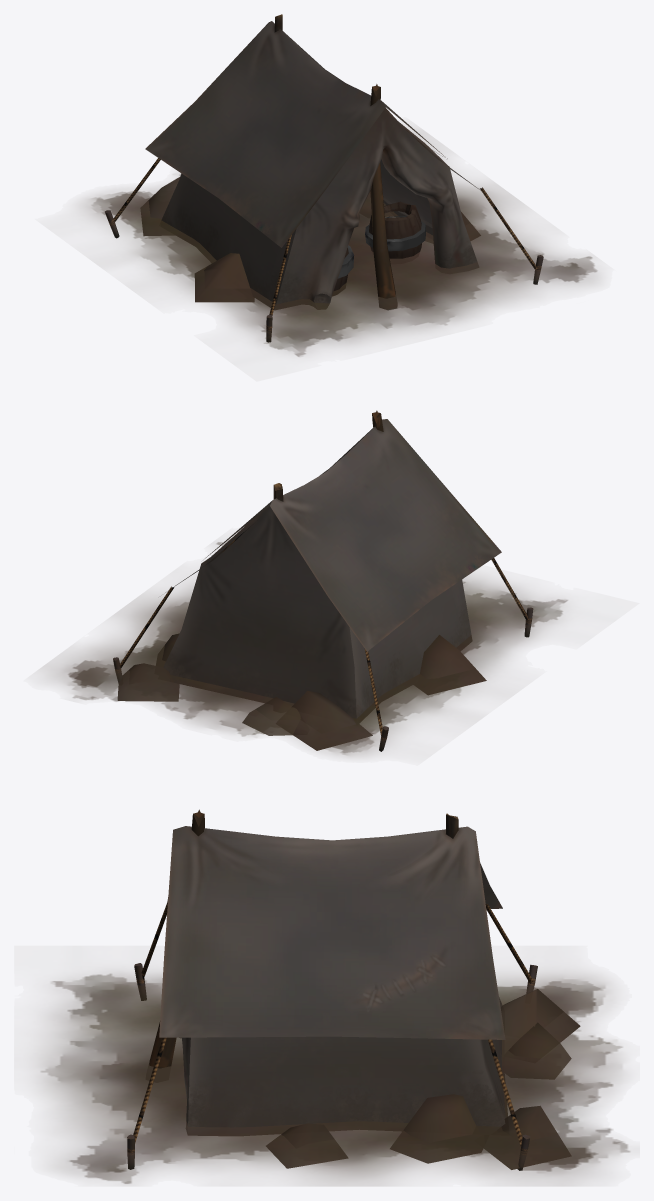
3 views of the same model, one above another, from view 1: azimuth 30°, elevation 25°; view 2: azimuth 150°, elevation 25°; view 3: azimuth 270°, elevation 25° (orthographic). The views are drawn at different scales.
Visible parts, largest first — view 1: models_neutral_bandit_tent-1-tent, models_neutral_bandit_tent-0-underlay, models_neutral_bandit_tent-4-underlay, models_neutral_bandit_tent-2-barrel, models_neutral_bandit_tent-3-tent; view 2: models_neutral_bandit_tent-1-tent, models_neutral_bandit_tent-0-underlay, models_neutral_bandit_tent-4-underlay; view 3: models_neutral_bandit_tent-1-tent, models_neutral_bandit_tent-0-underlay, models_neutral_bandit_tent-4-underlay.
Boxes of the visible parts, x1,y1,x2,y2 form: models_neutral_bandit_tent-1-tent: (105, 14, 543, 342); models_neutral_bandit_tent-0-underlay: (84, 132, 597, 356); models_neutral_bandit_tent-4-underlay: (141, 177, 480, 302); models_neutral_bandit_tent-2-barrel: (332, 201, 425, 295); models_neutral_bandit_tent-3-tent: (380, 121, 480, 235); models_neutral_bandit_tent-1-tent: (113, 410, 533, 751); models_neutral_bandit_tent-0-underlay: (50, 538, 567, 755); models_neutral_bandit_tent-4-underlay: (117, 633, 486, 750); models_neutral_bandit_tent-1-tent: (127, 809, 537, 1170); models_neutral_bandit_tent-0-underlay: (40, 973, 630, 1185); models_neutral_bandit_tent-4-underlay: (266, 989, 580, 1169).
Size of the model in its own units: 7.36 by 4.12 by 8.07.
3 materials, 3 textured.
